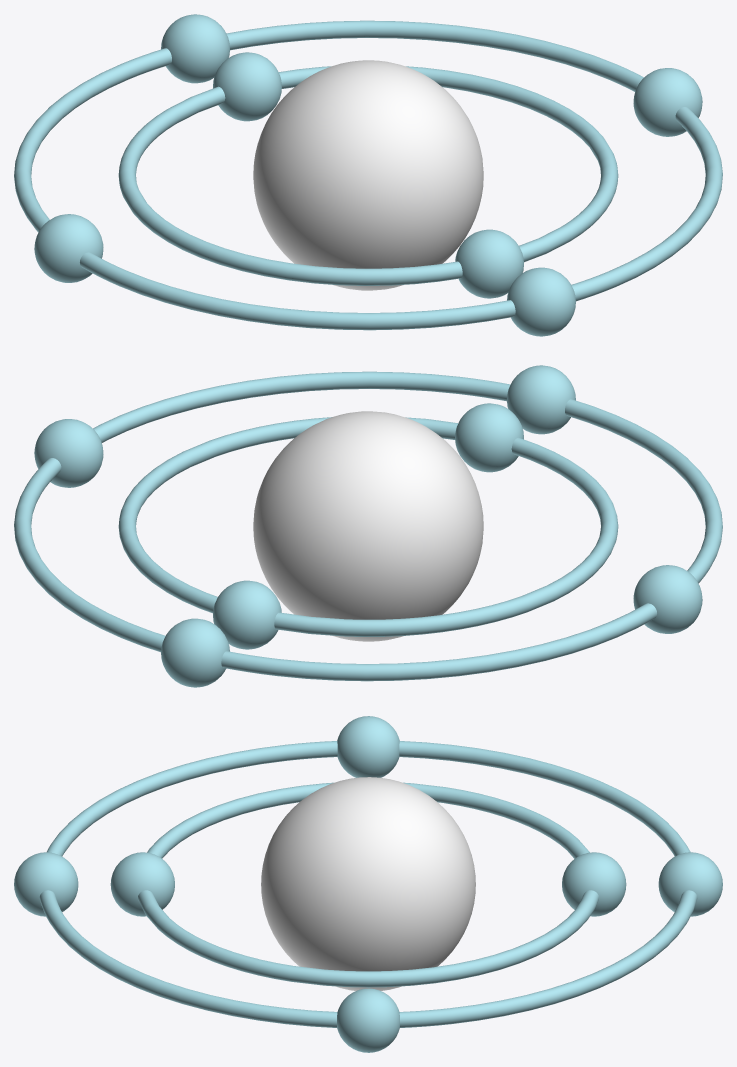
File: asset.glb
The picture shows the model from 3 angles, top to bottom: view 1: azimuth 30°, elevation 25°; view 2: azimuth 150°, elevation 25°; view 3: azimuth 270°, elevation 25°; orthographic projection. The views are drawn at different scales.
Visible parts, largest first — view 1: Body3, Body1, Body2; view 2: Body3, Body1, Body2; view 3: Body3, Body1, Body2.
Part boxes in pixels (x1,y1,x2,y2): Body3: (253, 60, 483, 290); Body1: (14, 14, 722, 336); Body2: (118, 52, 618, 298); Body3: (253, 411, 483, 641); Body1: (14, 365, 722, 687); Body2: (118, 403, 618, 649); Body3: (261, 777, 475, 990); Body1: (14, 716, 722, 1052); Body2: (110, 782, 626, 987).
Bounding box in the file's own units: 660 × 200 × 660.
